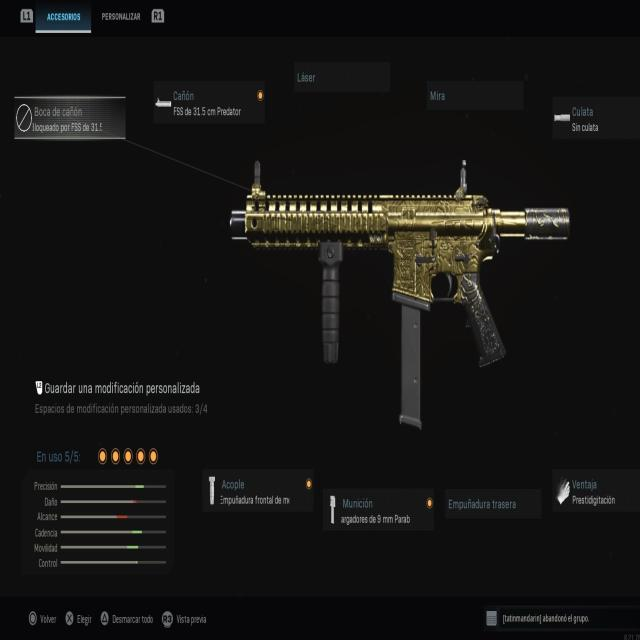Weapon: (231, 161, 570, 365)
